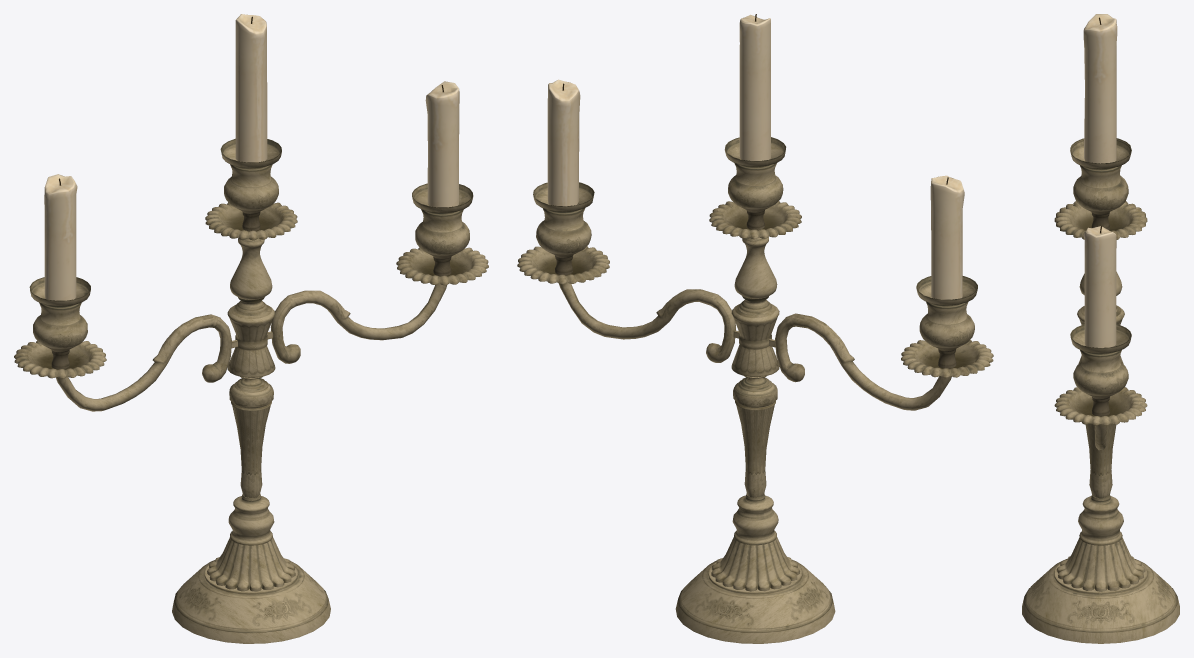
Rendered from obj_candelabra_f00558.glb.
3 renders of one model, left to right at view 1: azimuth 30°, elevation 25°; view 2: azimuth 150°, elevation 25°; view 3: azimuth 270°, elevation 25°, orthographic.
Parts seen in each view (by area): view 1: obj_candelabra_f00558; view 2: obj_candelabra_f00558; view 3: obj_candelabra_f00558.
Boxes of the visible parts, bbox=[...] form: obj_candelabra_f00558: bbox=[14, 14, 488, 643]; obj_candelabra_f00558: bbox=[517, 14, 993, 643]; obj_candelabra_f00558: bbox=[1022, 14, 1179, 643].
Size of the model in its own units: 0.1221 by 0.15 by 0.0362.
Materials: 2 (2 with a texture image).
